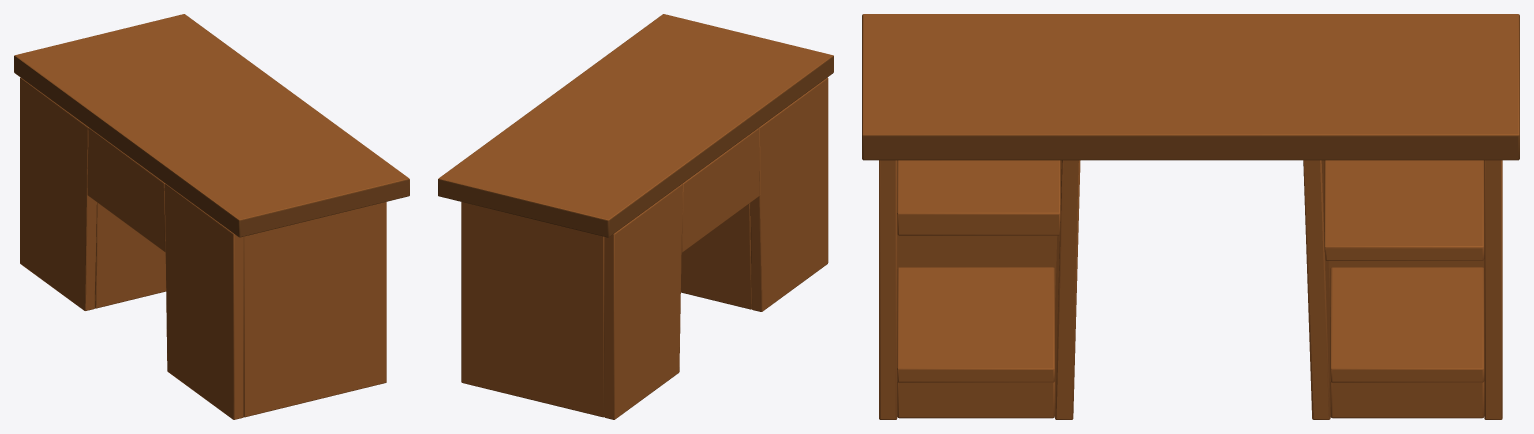
The model's file is Computer_table.fbx.
3 renders of one model, left to right at view 1: azimuth 30°, elevation 25°; view 2: azimuth 150°, elevation 25°; view 3: azimuth 270°, elevation 25°, orthographic. The views are drawn at different scales.
Visible parts, largest first — view 1: Computer_table; view 2: Computer_table; view 3: Computer_table.
Part boxes in pixels (bbox=[...]): Computer_table: bbox=[14, 14, 409, 419]; Computer_table: bbox=[438, 14, 833, 419]; Computer_table: bbox=[862, 14, 1519, 419].
Size of the model in its own units: 0.7552 by 0.863 by 1.73.
